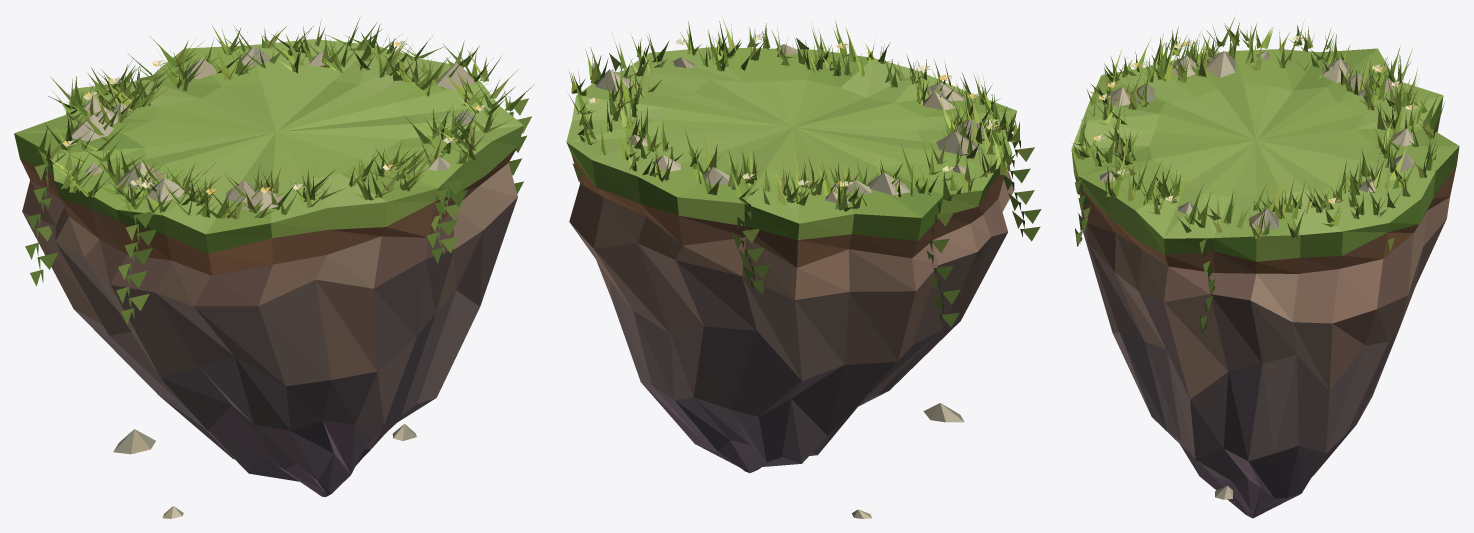
File: island-a.glb
3 renders of one model, left to right at view 1: azimuth 30°, elevation 25°; view 2: azimuth 150°, elevation 25°; view 3: azimuth 270°, elevation 25°, orthographic. The views are drawn at different scales.
Parts seen in each view (by area): view 1: stone, turf, leaves, earth, flowers; view 2: stone, turf, leaves, earth, flowers; view 3: stone, turf, leaves, earth, flowers.
Boxes of the visible parts, x1,y1,x2,y2 form: stone: [22, 45, 517, 518]; turf: [14, 39, 523, 253]; leaves: [25, 18, 534, 324]; earth: [20, 147, 517, 275]; flowers: [62, 41, 488, 194]; stone: [569, 44, 1014, 518]; turf: [566, 47, 1016, 240]; leaves: [568, 17, 1041, 326]; earth: [571, 154, 1005, 267]; flowers: [589, 34, 999, 187]; stone: [1081, 50, 1449, 518]; turf: [1071, 48, 1459, 261]; leaves: [1072, 17, 1444, 333]; earth: [1074, 118, 1456, 273]; flowers: [1093, 35, 1417, 204].
Bounding box in the file's own units: 3.99 × 3.43 × 3.12.
